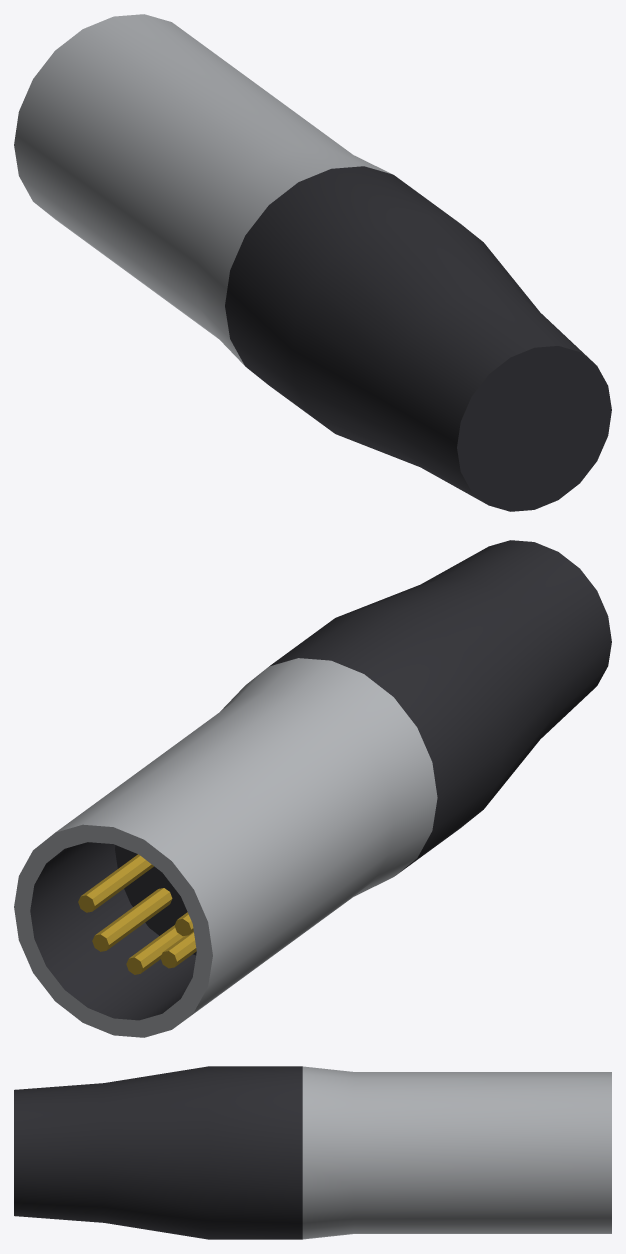
File: xlr5-m.glb
3 renders of one model, top to bottom at view 1: azimuth 30°, elevation 25°; view 2: azimuth 150°, elevation 25°; view 3: azimuth 270°, elevation 25°, orthographic. The views are drawn at different scales.
Parts seen in each view (by area): view 1: xlr5-m-body; view 2: xlr5-m-body; view 3: xlr5-m-body.
Part boxes in pixels (left/top/right/bottom): xlr5-m-body: left=14, top=14, right=611, bottom=511; xlr5-m-body: left=14, top=540, right=611, bottom=1037; xlr5-m-body: left=14, top=1066, right=611, bottom=1239.
Bounding box in the file's own units: 0.0203 × 0.0203 × 0.0696.
